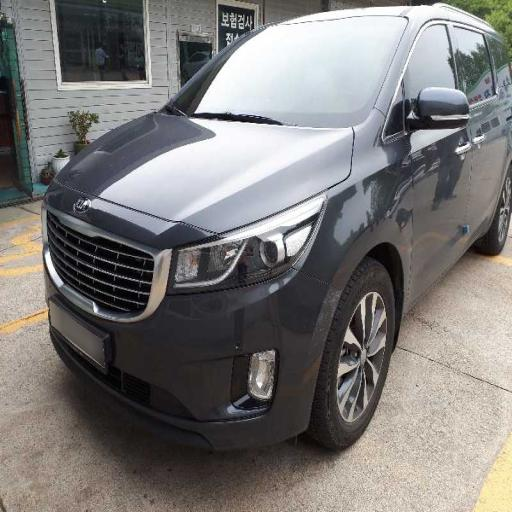dent: (196, 180, 360, 350)
